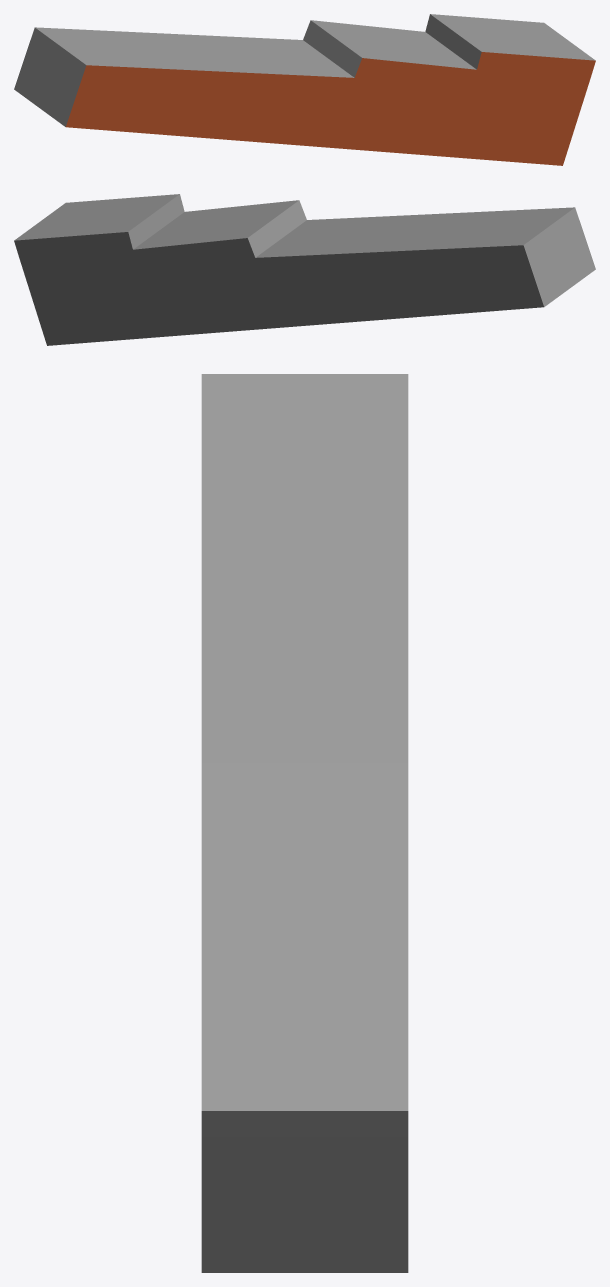
File: construction_0692_assumed_A_Casa_h6m.obj
3 renders of one model, top to bottom at view 1: azimuth 30°, elevation 25°; view 2: azimuth 150°, elevation 25°; view 3: azimuth 270°, elevation 25°, orthographic. The views are drawn at different scales.
Parts seen in each view (by area): view 1: construction_0692_assumed_A_Casa; view 2: construction_0692_assumed_A_Casa; view 3: construction_0692_assumed_A_Casa.
Boxes of the visible parts, x1=… form: construction_0692_assumed_A_Casa: x1=14, y1=14, x2=595, y2=165; construction_0692_assumed_A_Casa: x1=14, y1=194, x2=595, y2=345; construction_0692_assumed_A_Casa: x1=201, y1=374, x2=408, y2=1272.
Size of the model in its own units: 35.53 by 13.89 by 6.
